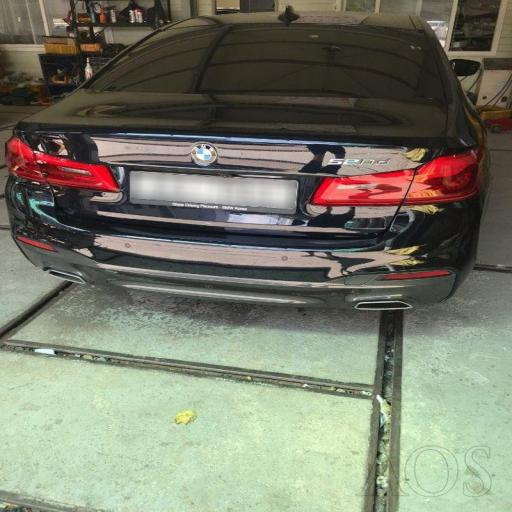scratch: (0, 126, 467, 316)
